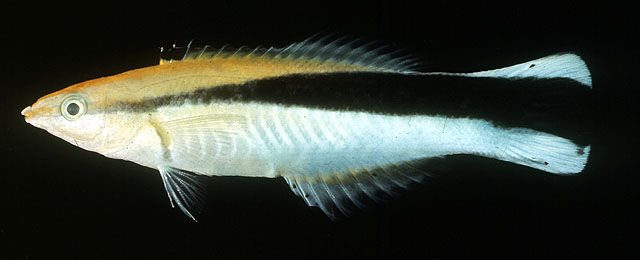fish: (21, 36, 594, 223)
